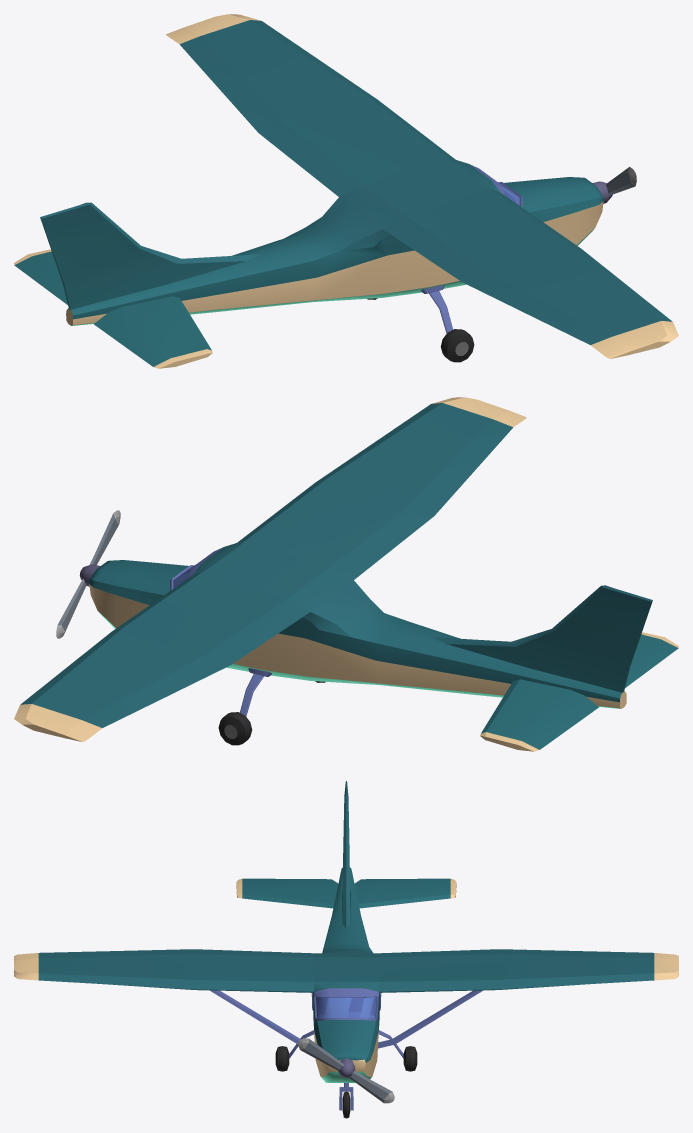
3 views of the same model, one above another, from view 1: azimuth 30°, elevation 25°; view 2: azimuth 150°, elevation 25°; view 3: azimuth 270°, elevation 25° (orthographic). The views are drawn at different scales.
Visible parts, largest first — view 1: Plane_2_C, Propeler; view 2: Plane_2_C, Propeler; view 3: Plane_2_C, Propeler.
Boxes of the visible parts, left/top/right/bottom form: Plane_2_C: left=14, top=14, right=678, bottom=368; Propeler: left=606, top=166, right=636, bottom=195; Plane_2_C: left=14, top=397, right=678, bottom=751; Propeler: left=56, top=510, right=120, bottom=638; Plane_2_C: left=14, top=781, right=678, bottom=1118; Propeler: left=298, top=1038, right=394, bottom=1103.
Bounding box in the file's own units: 1241 × 429 × 1666.
